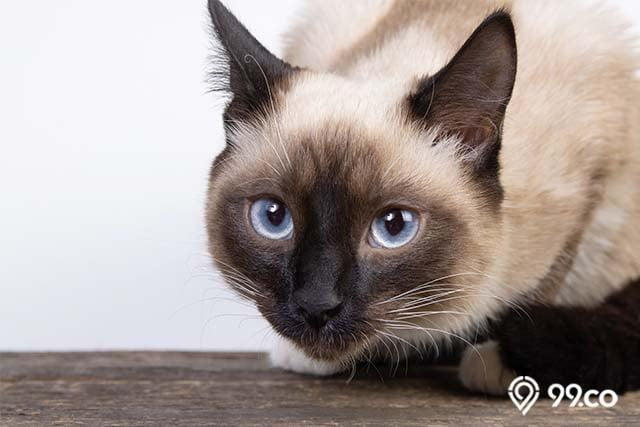siamese: (194, 1, 533, 365)
